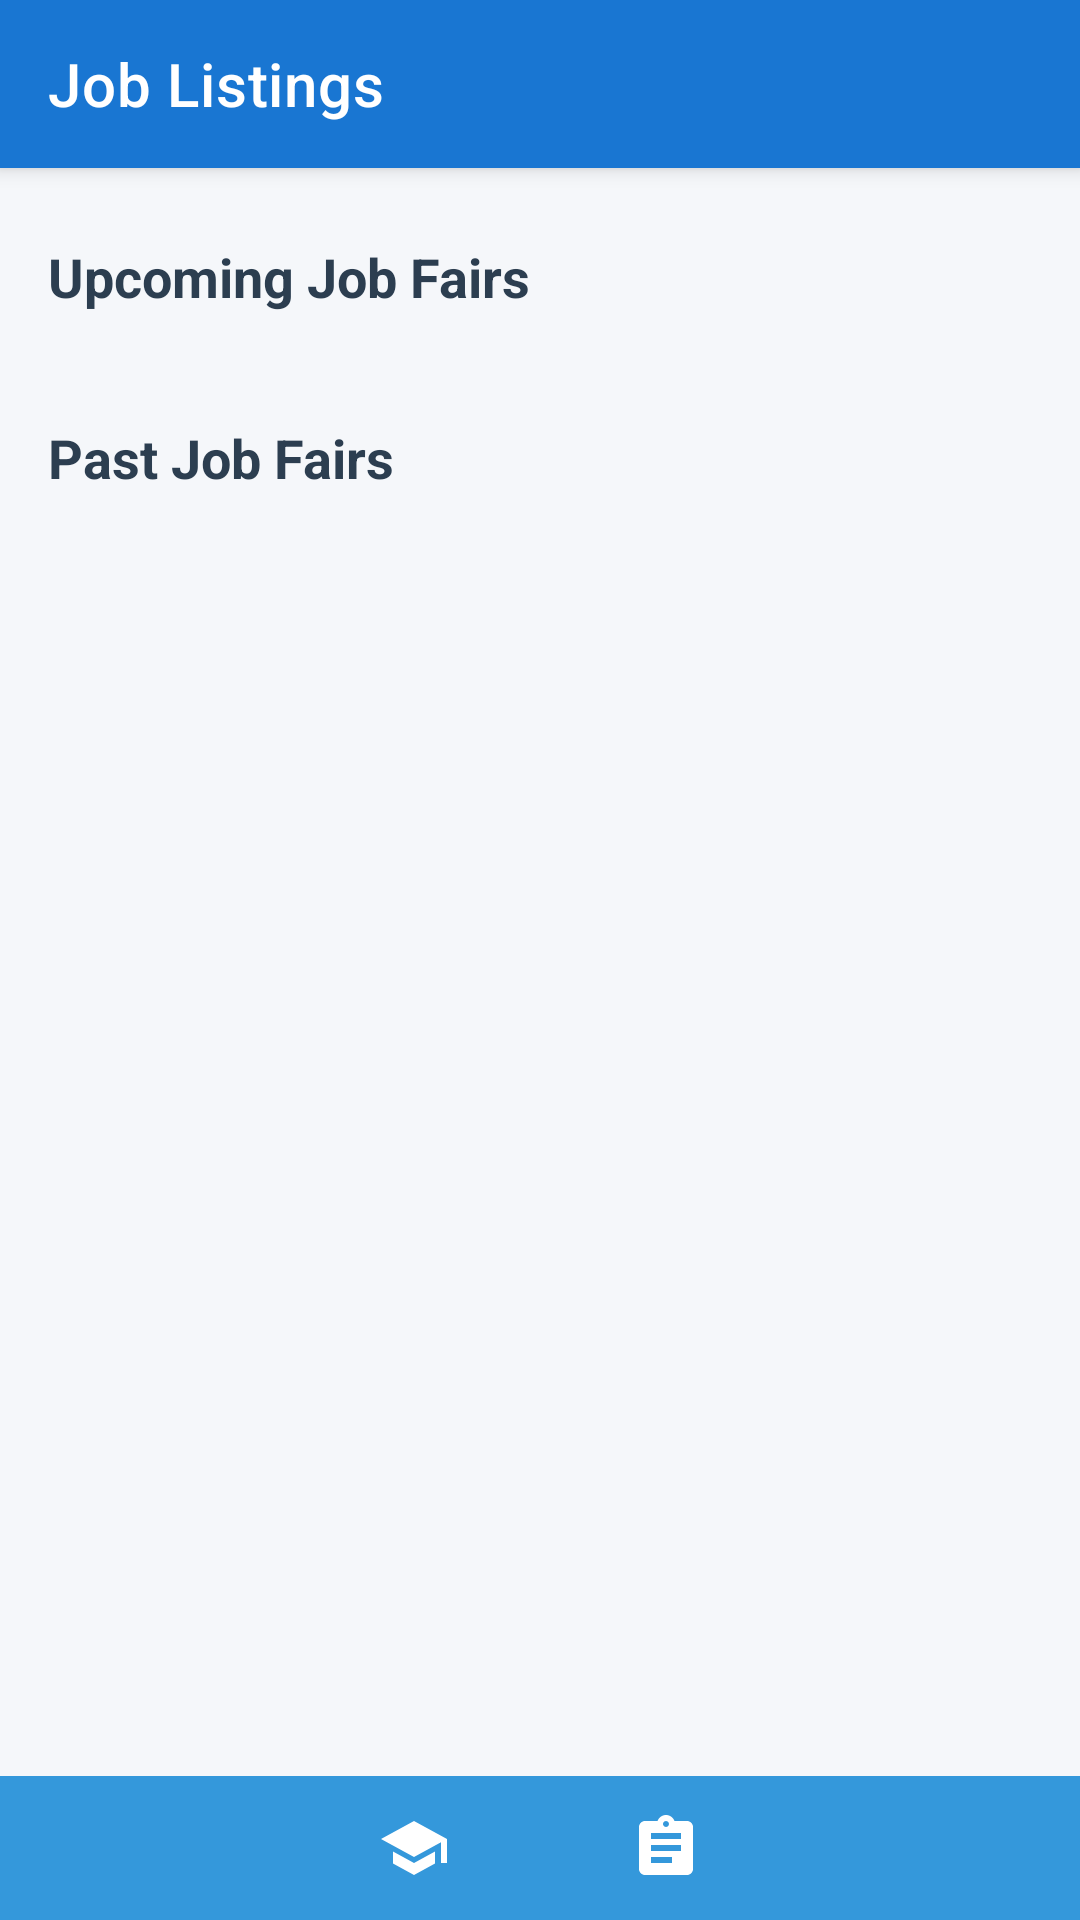

Screen size 1080 × 1920. Icon name, then its center in pixels as (x,y):
Coaching: (414,1848)
Jobs: (666,1845)
